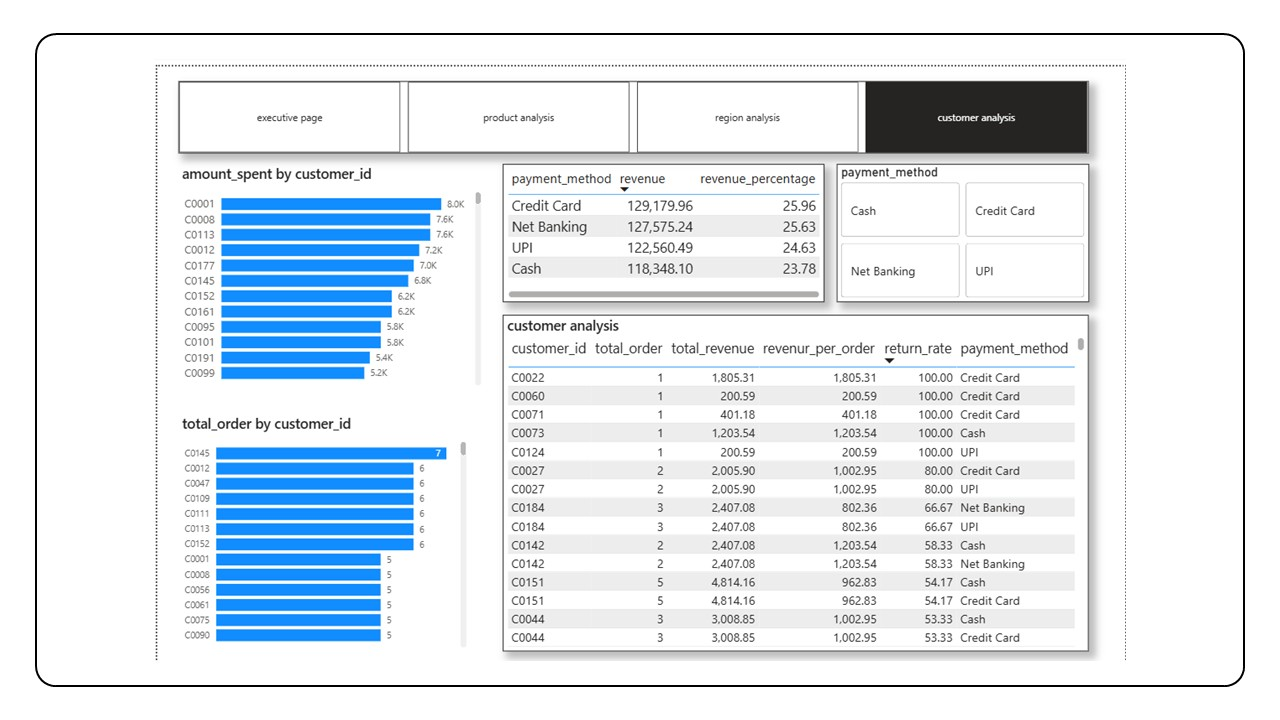

The page's visual inventory and layout, read from the dashboard file:
{"tool":"powerbi","page":{"name":"customer analysis","canvas":[1300,800],"ordinal":3},"visuals":[{"type":"clusteredBarChart","title":"amount_spent by customer_id","fields":{"Category":["public customer_highestspent.customer_id"],"Y":["Sum(public customer_highestspent.total_amount_spent)"]},"box":[28.2,131,411.3,302.8],"z":0},{"type":"clusteredBarChart","title":" total_order by customer_id","fields":{"Category":["public customer_analysis.customer_id"],"Y":["Sum(public customer_analysis.total_order)"]},"box":[28.2,466.2,391.5,319.7],"z":1000},{"type":"tableEx","title":"customer analysis","fields":{"Values":["public customer_analysis.customer_id","public customer_analysis.total_order","public customer_analysis.total_revenue","public customer_analysis.revenur_per_order","public customer_analysis.return_rate","public sales_data_clean.payment_method"]},"box":[463.4,333.8,785.9,452.1],"z":2000},{"type":"tableEx","fields":{"Values":["public payment_method_impact.payment_method","public payment_method_impact.revenue","public payment_method_impact.revenue_percentage"]},"box":[463.4,131,431,185.9],"z":3000},{"type":"advancedSlicerVisual","fields":{"Values":["public sales_data_clean.payment_method"]},"box":[911.3,131,338,185.9],"z":3001},{"type":"pageNavigator","box":[28.2,19.7,1221.1,97.2],"z":3002}]}

Visuals, with their boxes on the page's 1300x800 design canvas (x1, y1, x2, y2). These are canvas units, not pixel positions in the 1280x720 screenshot, which may show the page scaled, cropped or inside an application window:
"amount_spent by customer_id" clusteredBarChart: bbox=[28, 131, 440, 434]
" total_order by customer_id" clusteredBarChart: bbox=[28, 466, 420, 786]
"customer analysis" tableEx: bbox=[463, 334, 1249, 786]
tableEx - public payment_method_impact.payment_method x public payment_method_impact.revenue: bbox=[463, 131, 894, 317]
advancedSlicerVisual - public sales_data_clean.payment_method: bbox=[911, 131, 1249, 317]
pageNavigator: bbox=[28, 20, 1249, 117]
